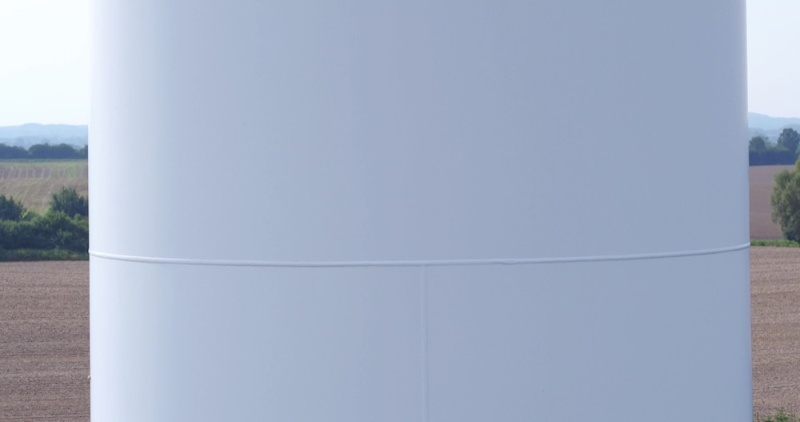weldseam: (84, 236, 752, 272), (414, 255, 434, 421)
